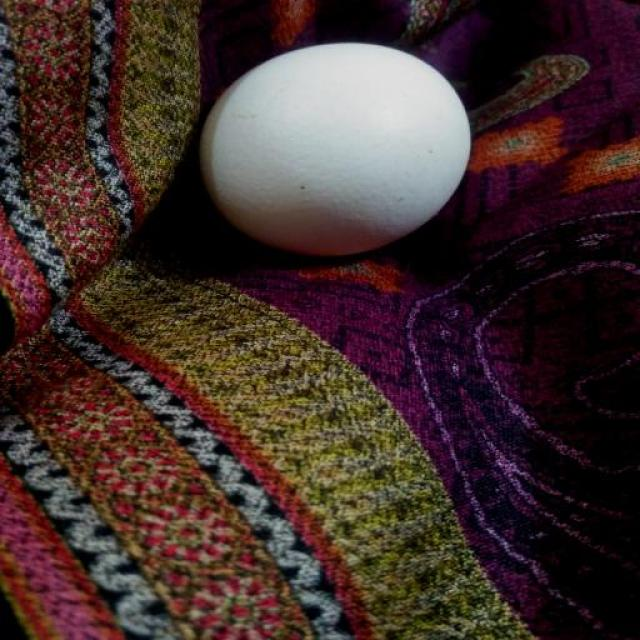telur: (204, 42, 468, 253)
